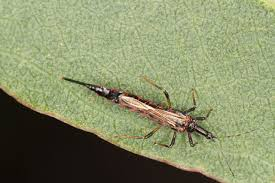Phlaeothripidae: (60, 76, 255, 157)
